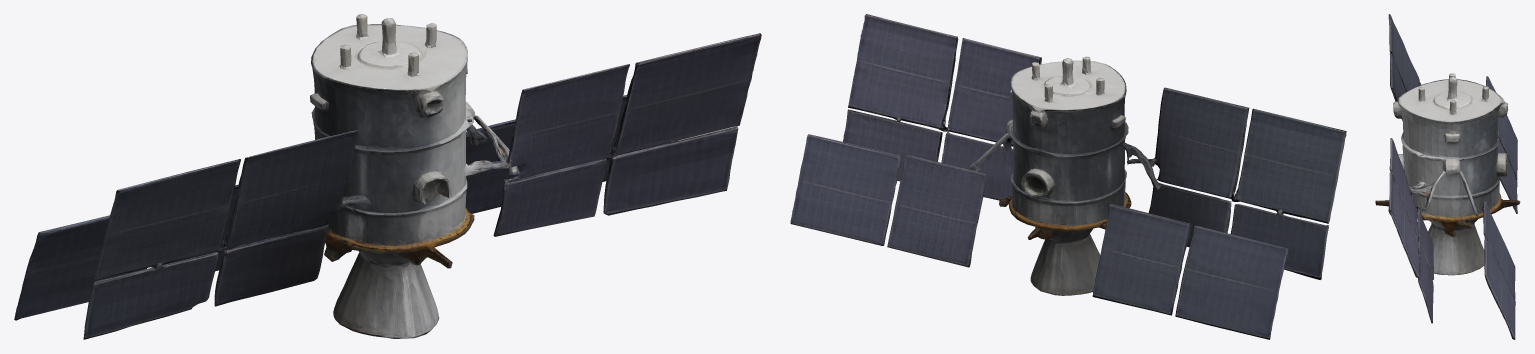
Rendered from satellite.glb.
3 views of the same model, side by side, from view 1: azimuth 30°, elevation 25°; view 2: azimuth 150°, elevation 25°; view 3: azimuth 270°, elevation 25° (orthographic). The views are drawn at different scales.
Visible parts, largest first — view 1: world; view 2: world; view 3: world.
Boxes of the visible parts, <box> form: world: <box>14,14,761,339</box>; world: <box>790,14,1346,339</box>; world: <box>1375,14,1520,339</box>.
Size of the model in its own units: 1 by 0.4416 by 0.3123.
1 material, 1 textured.
